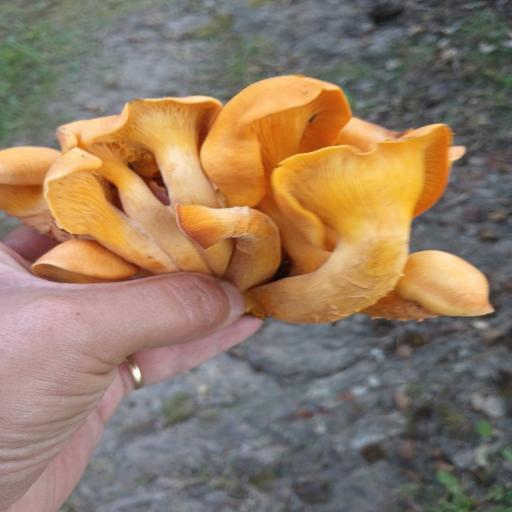Jack O Lantern Mushroom: (252, 126, 459, 332), (192, 69, 364, 204), (71, 85, 242, 216), (30, 151, 186, 275), (374, 244, 497, 332), (181, 202, 291, 295), (0, 131, 70, 226)
